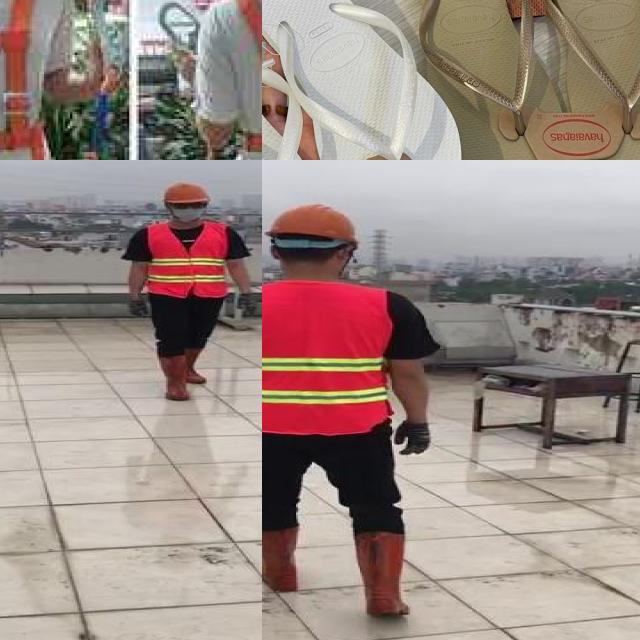Harness: (200, 0, 262, 160)
Sandals: (400, 0, 640, 160), (262, 0, 493, 160)
boots: (351, 530, 421, 616), (262, 523, 304, 593), (157, 351, 191, 401), (184, 345, 212, 384)
face_mask: (167, 201, 208, 221)
glasses: (167, 200, 210, 212)
hand_glove: (394, 422, 431, 457), (235, 293, 262, 318), (127, 297, 148, 320)
head_helmet: (262, 202, 363, 246), (156, 182, 217, 205)
person: (262, 198, 445, 625), (121, 178, 262, 403)
vest: (262, 281, 393, 434), (146, 223, 226, 296)
